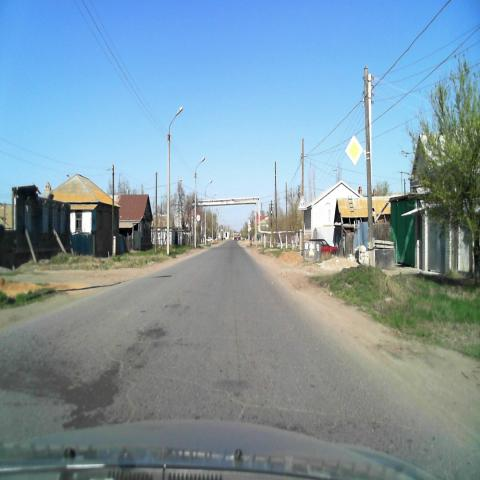1_23: (298, 196, 306, 210)
2_1: (345, 134, 364, 165)
